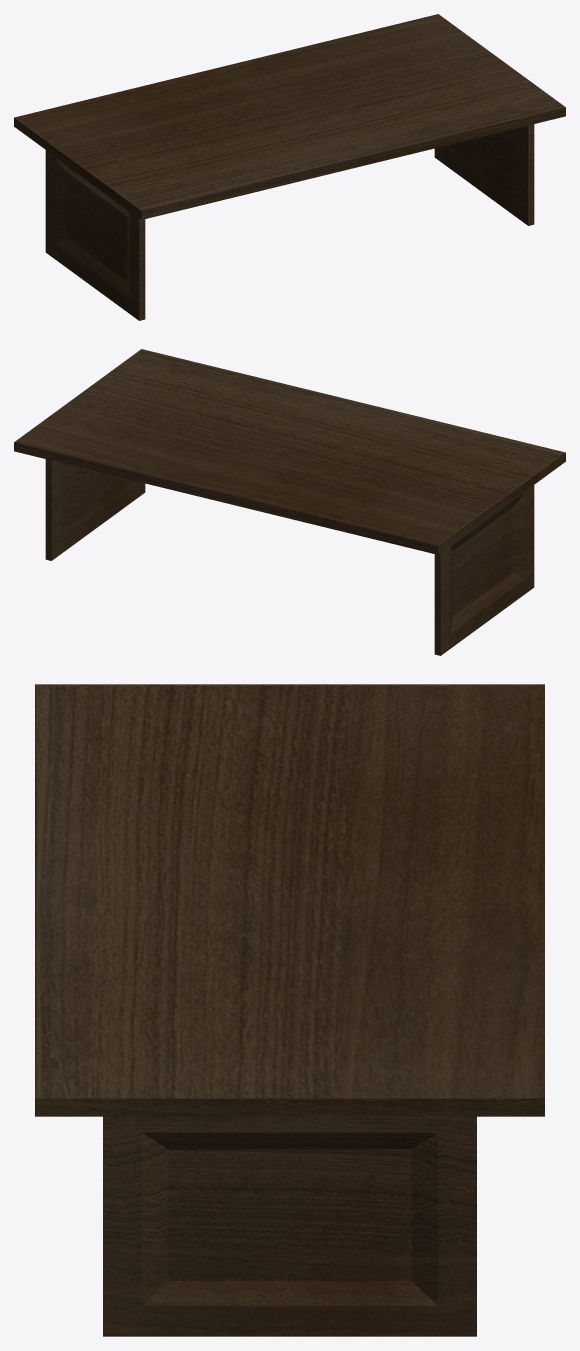
The model's file is TableLibrary.fbx.
3 renders of one model, top to bottom at view 1: azimuth 30°, elevation 25°; view 2: azimuth 150°, elevation 25°; view 3: azimuth 270°, elevation 25°, orthographic. The views are drawn at different scales.
Parts seen in each view (by area): view 1: Table; view 2: Table; view 3: Table.
Part boxes in pixels (x1,y1,x2,y2): Table: (14, 14, 565, 320); Table: (14, 349, 565, 655); Table: (35, 684, 544, 1336).
Size of the model in its own units: 2882 by 818 by 1500.
1 material, 1 textured.
